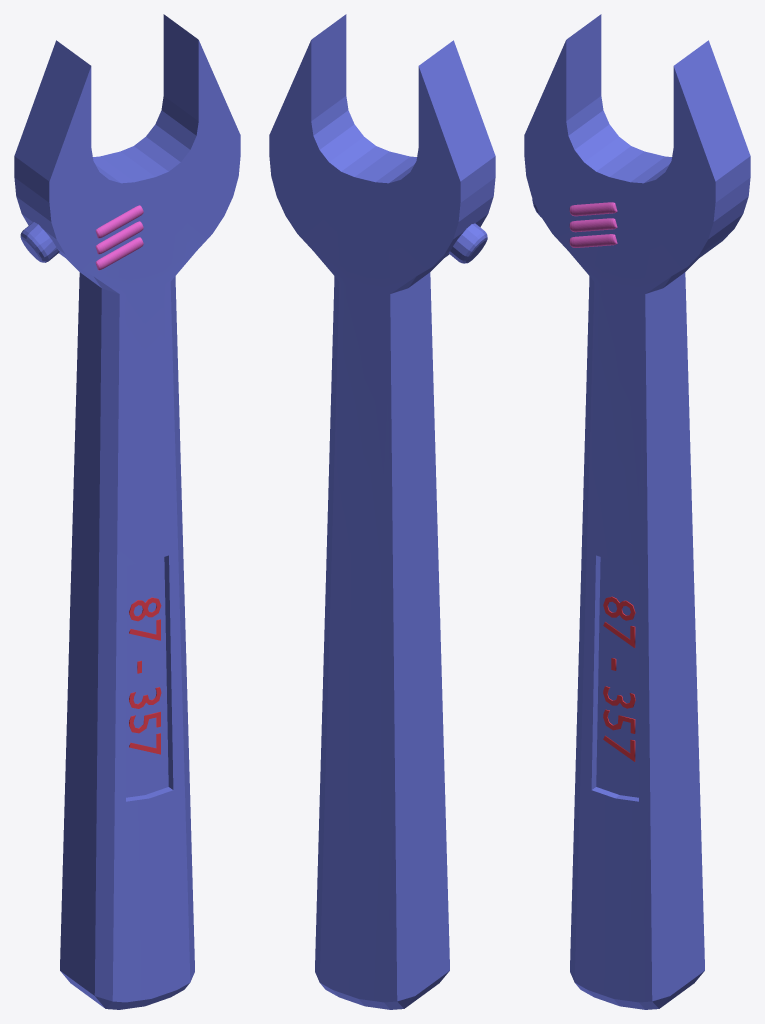
File: AdjustableWrench.fbx
3 views of the same model, side by side, from view 1: azimuth 30°, elevation 25°; view 2: azimuth 150°, elevation 25°; view 3: azimuth 330°, elevation 25° (orthographic).
Visible parts, largest first — view 1: AdjustableWrench, AdjustableWrench.002, AdjustableWrench.001; view 2: AdjustableWrench, AdjustableWrench.003, AdjustableWrench.001, AdjustableWrench.002; view 3: AdjustableWrench, AdjustableWrench.002, AdjustableWrench.001.
Boxes of the visible parts, x1=… form: AdjustableWrench: x1=14, y1=14, x2=240, y2=1009; AdjustableWrench.002: x1=49, y1=72, x2=98, y2=202; AdjustableWrench.001: x1=50, y1=150, x2=236, y2=202; AdjustableWrench: x1=269, y1=14, x2=495, y2=1009; AdjustableWrench.003: x1=269, y1=41, x2=318, y2=155; AdjustableWrench.001: x1=271, y1=150, x2=458, y2=202; AdjustableWrench.002: x1=418, y1=72, x2=460, y2=200; AdjustableWrench: x1=524, y1=14, x2=750, y2=1009; AdjustableWrench.002: x1=524, y1=41, x2=573, y2=156; AdjustableWrench.001: x1=525, y1=150, x2=713, y2=202.
Size of the model in its own units: 12.96 by 59.79 by 5.47.
